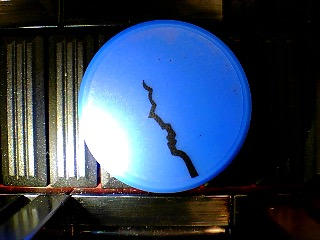CRACK: (77, 19, 253, 194)
